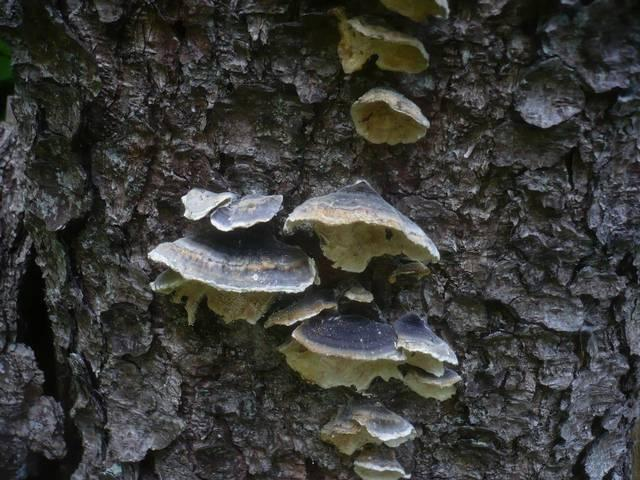Non-edible Mushroom: (264, 272, 460, 480), (146, 229, 317, 326), (281, 177, 441, 275), (319, 0, 455, 73), (349, 85, 430, 146)
